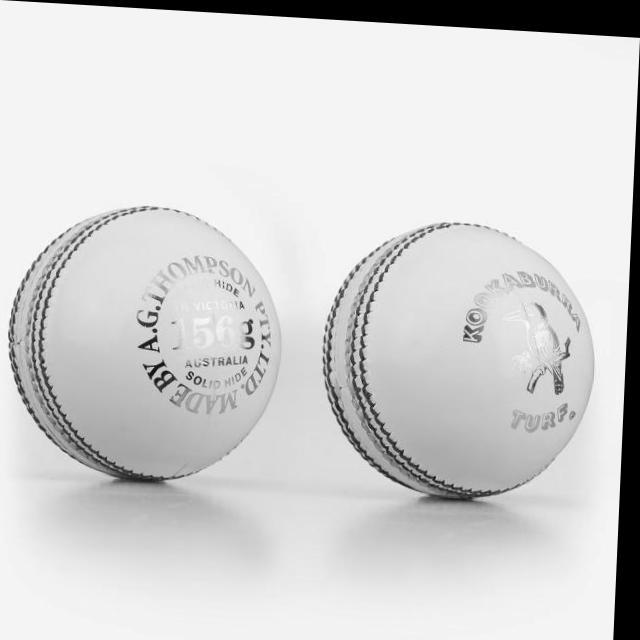cricket ball: (11, 204, 285, 479), (326, 216, 599, 492)
